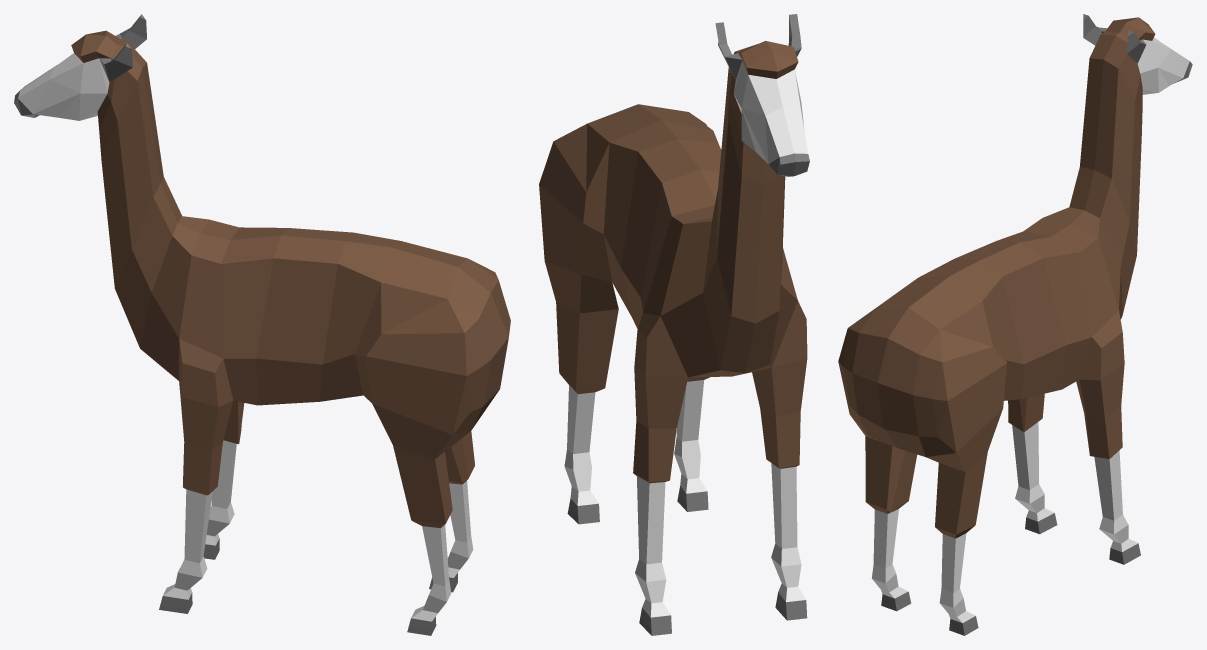
The model's file is lama.fbx.
3 views of the same model, side by side, from view 1: azimuth 30°, elevation 25°; view 2: azimuth 150°, elevation 25°; view 3: azimuth 270°, elevation 25° (orthographic). The views are drawn at different scales.
Parts seen in each view (by area): view 1: Llama.001; view 2: Llama.001; view 3: Llama.001.
Part boxes in pixels (left/top/right/bottom): Llama.001: left=14, top=14, right=510, bottom=635; Llama.001: left=539, top=14, right=809, bottom=635; Llama.001: left=838, top=14, right=1192, bottom=635.
Bounding box in the file's own units: 495 × 726 × 460.
